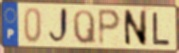0: (21, 6, 44, 46)
J: (47, 6, 71, 46)
L: (151, 11, 171, 47)
N: (123, 8, 148, 47)
P: (97, 8, 123, 48)
Q: (71, 9, 98, 46)
